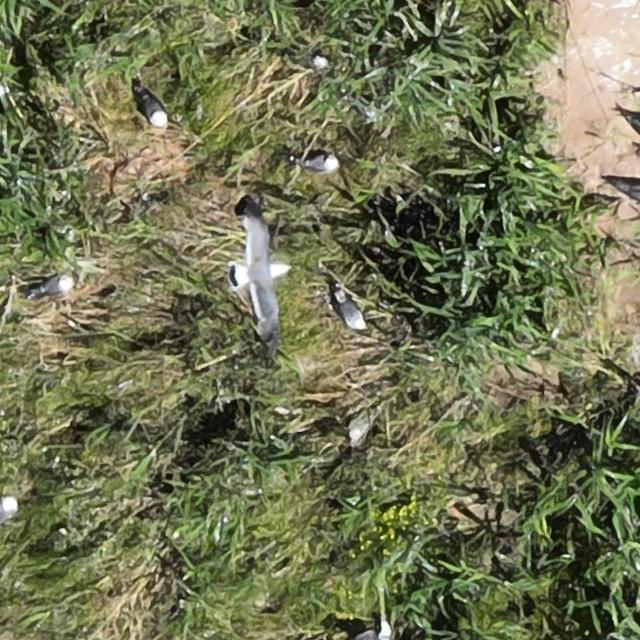F: (240, 209, 286, 332)
umineko: (337, 296, 364, 330), (141, 92, 168, 125), (302, 45, 330, 69), (36, 276, 71, 295), (348, 412, 370, 440), (301, 155, 337, 172), (0, 498, 15, 524)
